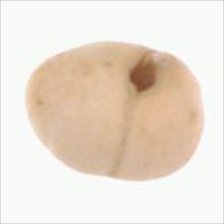L3: (128, 51, 162, 96)
L4: (25, 41, 204, 181)
